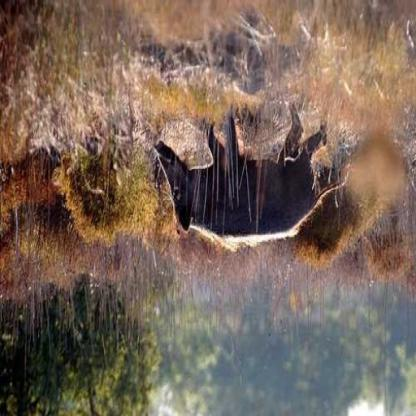boar: (133, 116, 348, 260)
